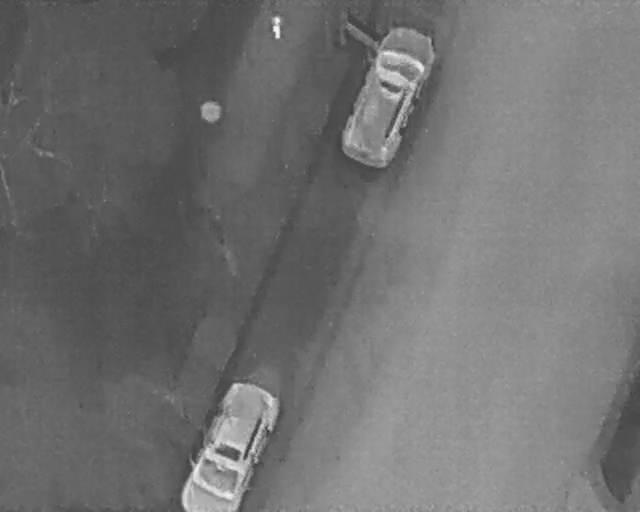Car: (331, 18, 444, 175), (184, 371, 281, 512)
Person: (270, 10, 282, 42)
